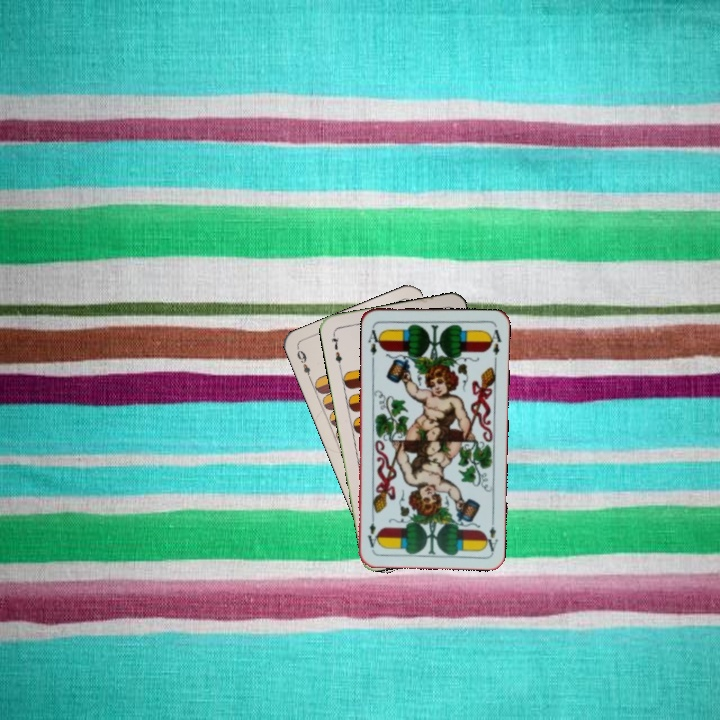E7: (327, 329, 345, 370)
E9: (293, 346, 314, 383)
EA: (481, 513, 501, 554), (364, 322, 384, 358)
